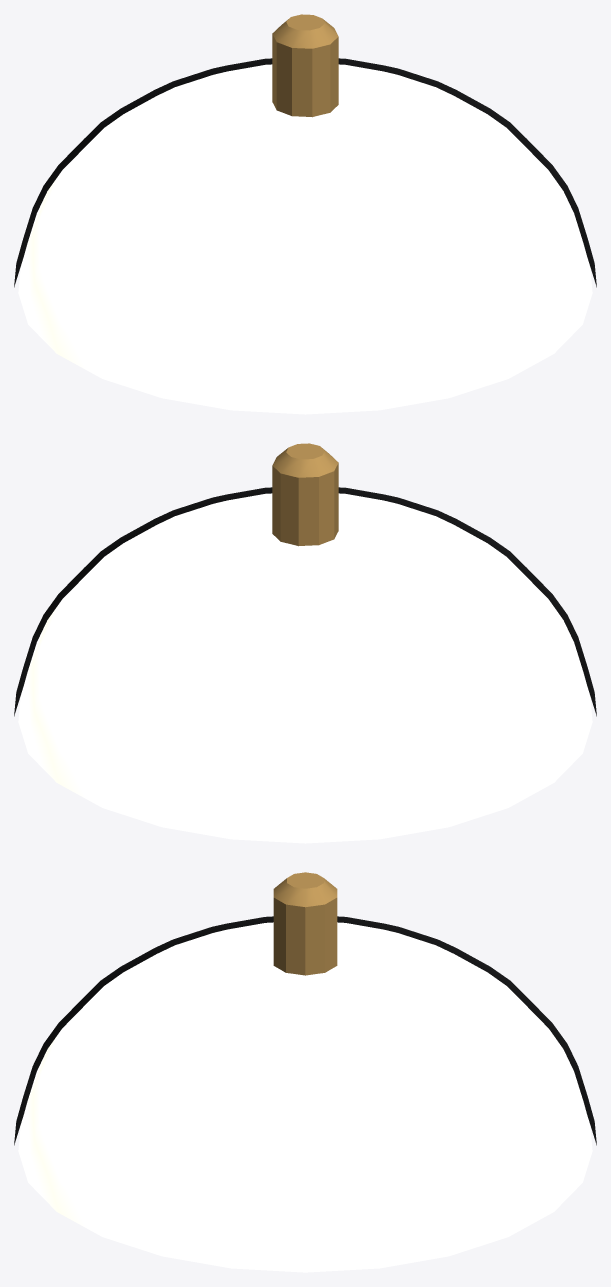
Rendered from dome_black.glb.
The picture shows the model from 3 angles, top to bottom: view 1: azimuth 30°, elevation 25°; view 2: azimuth 150°, elevation 25°; view 3: azimuth 270°, elevation 25°; orthographic projection.
Visible parts, largest first — view 1: dome_black; view 2: dome_black; view 3: dome_black.
Boxes of the visible parts, box(x1,y1,x2,y2) form: dome_black: box(14, 14, 596, 414); dome_black: box(14, 443, 596, 843); dome_black: box(14, 872, 596, 1272).
Size of the model in its own units: 0.42 by 0.2152 by 0.42.
